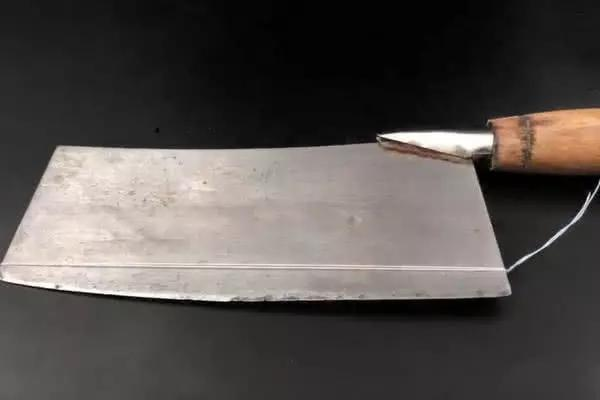knief: (18, 110, 565, 300)
